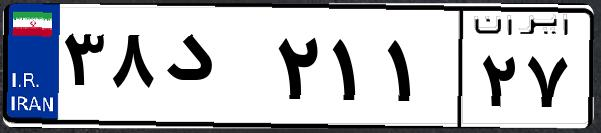1: (385, 28, 445, 110), (330, 28, 385, 110)
2: (270, 28, 330, 110), (475, 38, 525, 113)
3: (57, 26, 110, 100)
7: (525, 38, 570, 115)
8: (110, 28, 158, 98)
د: (158, 20, 270, 120)
